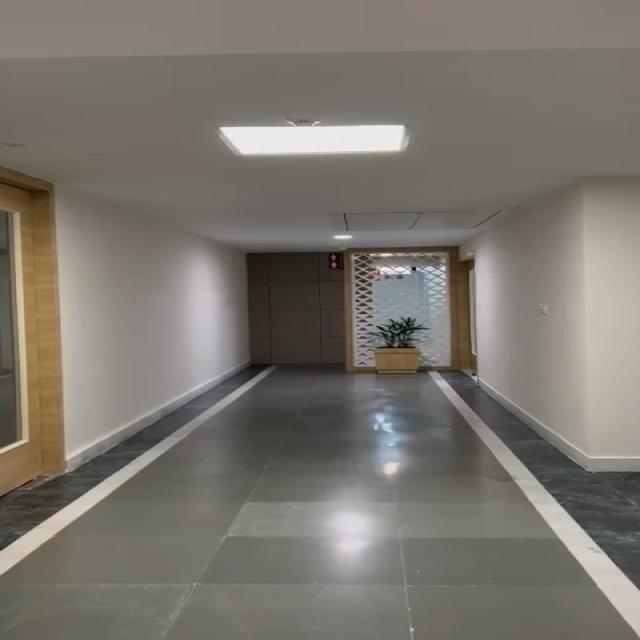door: (278, 257, 477, 376), (0, 180, 65, 497)
floor: (179, 368, 470, 640)
furniture: (368, 316, 426, 380)
wall: (472, 27, 640, 437), (80, 21, 244, 424)
